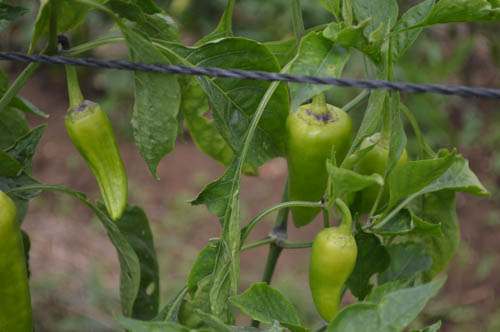ChiliPepper: (287, 109, 352, 222), (68, 104, 131, 219), (2, 196, 38, 332), (359, 138, 407, 225), (310, 228, 355, 319)
